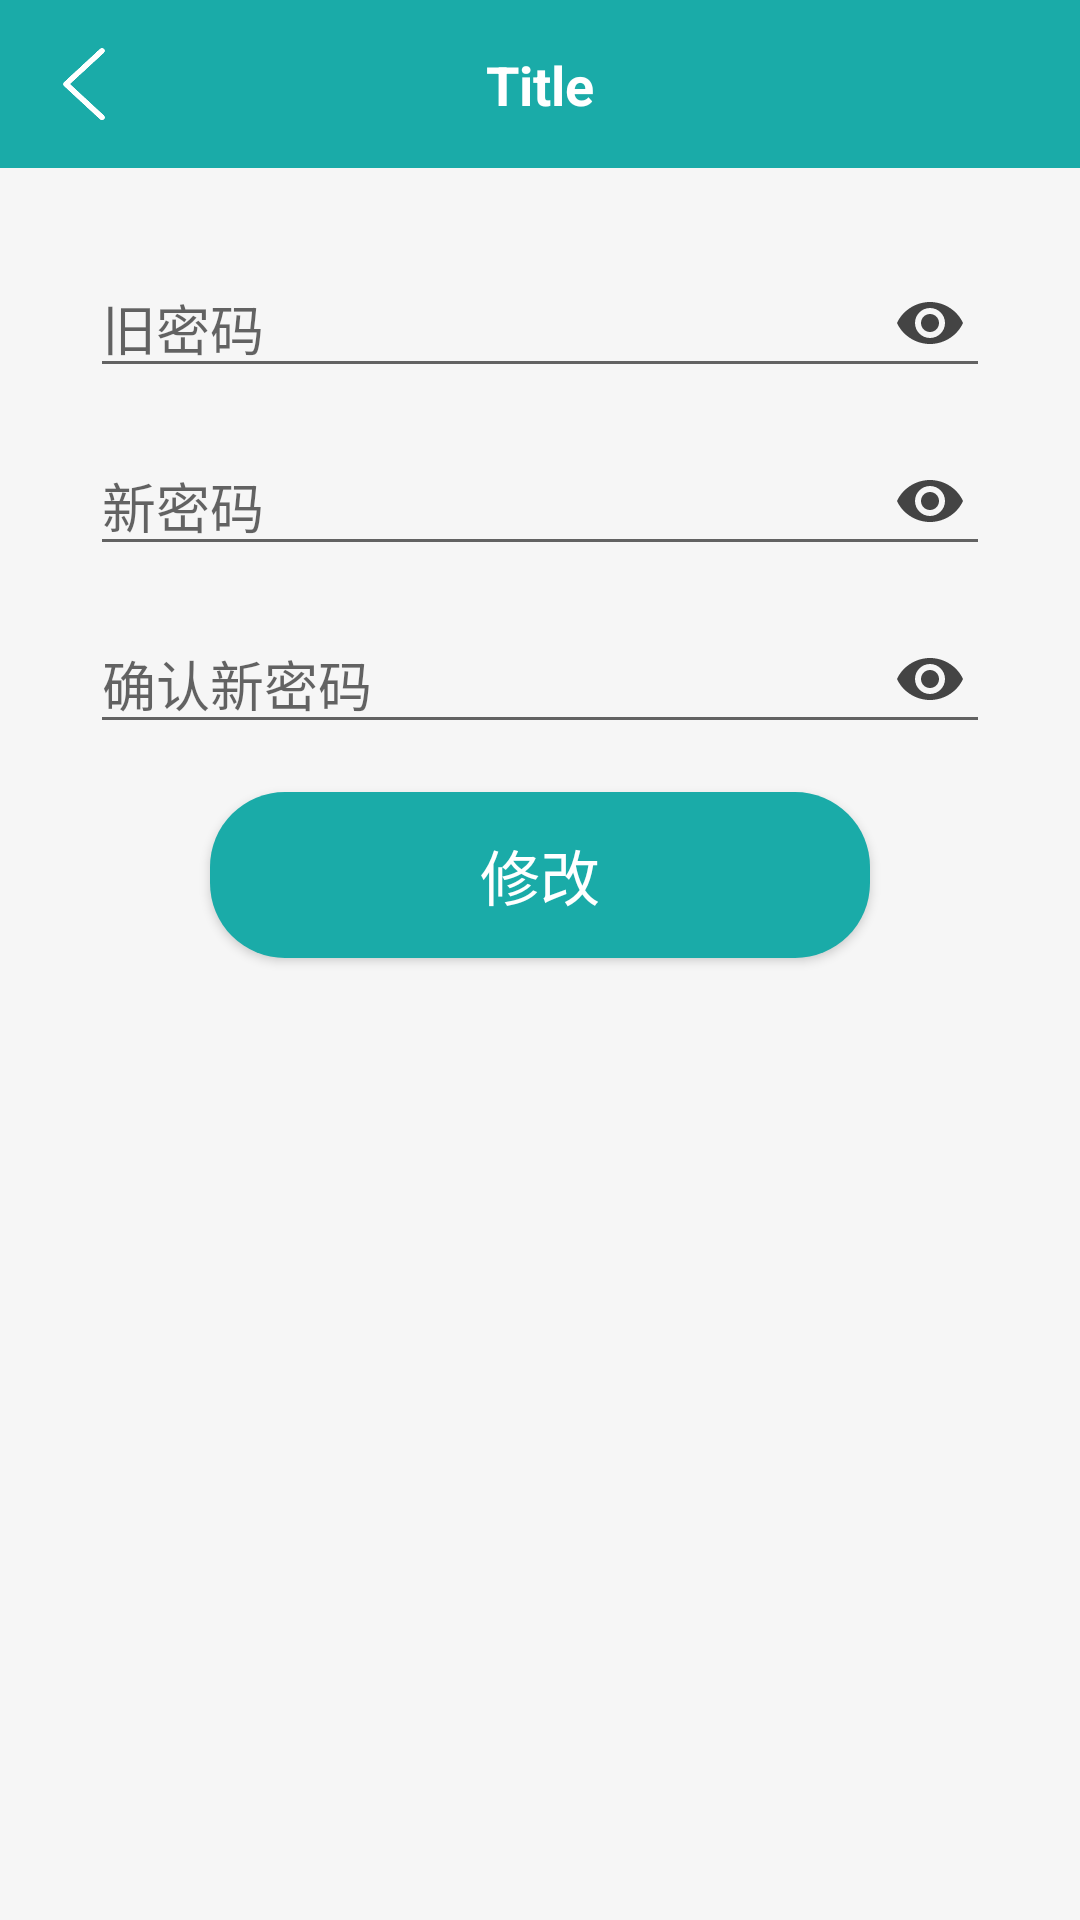

Point at icon controls on the screen. Image size 1080×1920, points as point (x, y).
back: point (84, 84)
